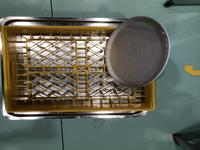Dish: (105, 16, 170, 88)
